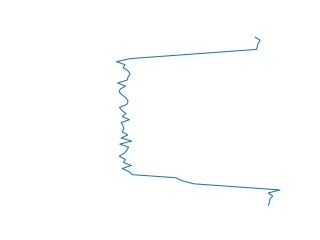distributaryChannelFill: (113, 35, 285, 205)
